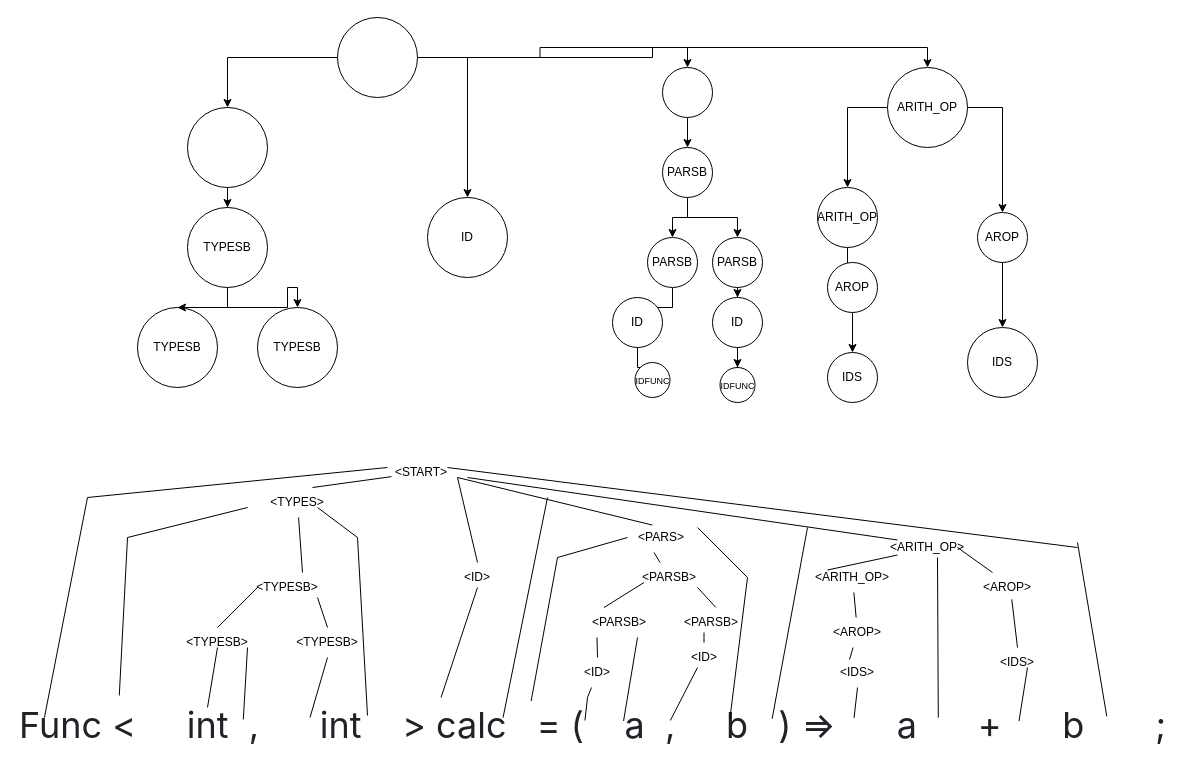
Image size: 1204x765. Some labels were removed from this diagram. Each missing label, with the centre of its shape:
"PARS" goes at pixel 687 92.
"START" goes at pixel 377 57.
"TYPES" goes at pixel 227 147.
